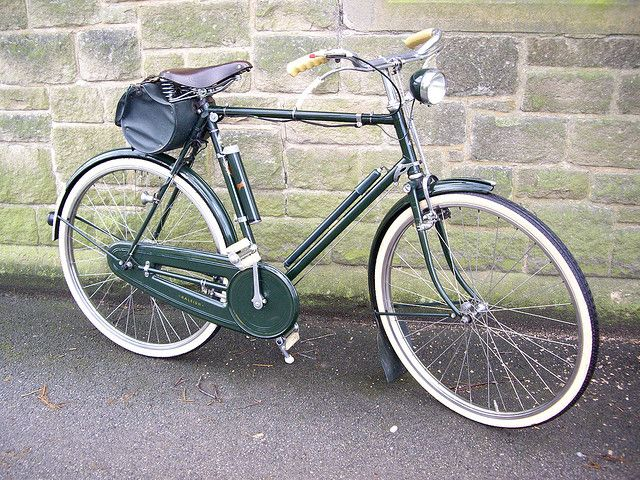cycle: (48, 26, 614, 436)
